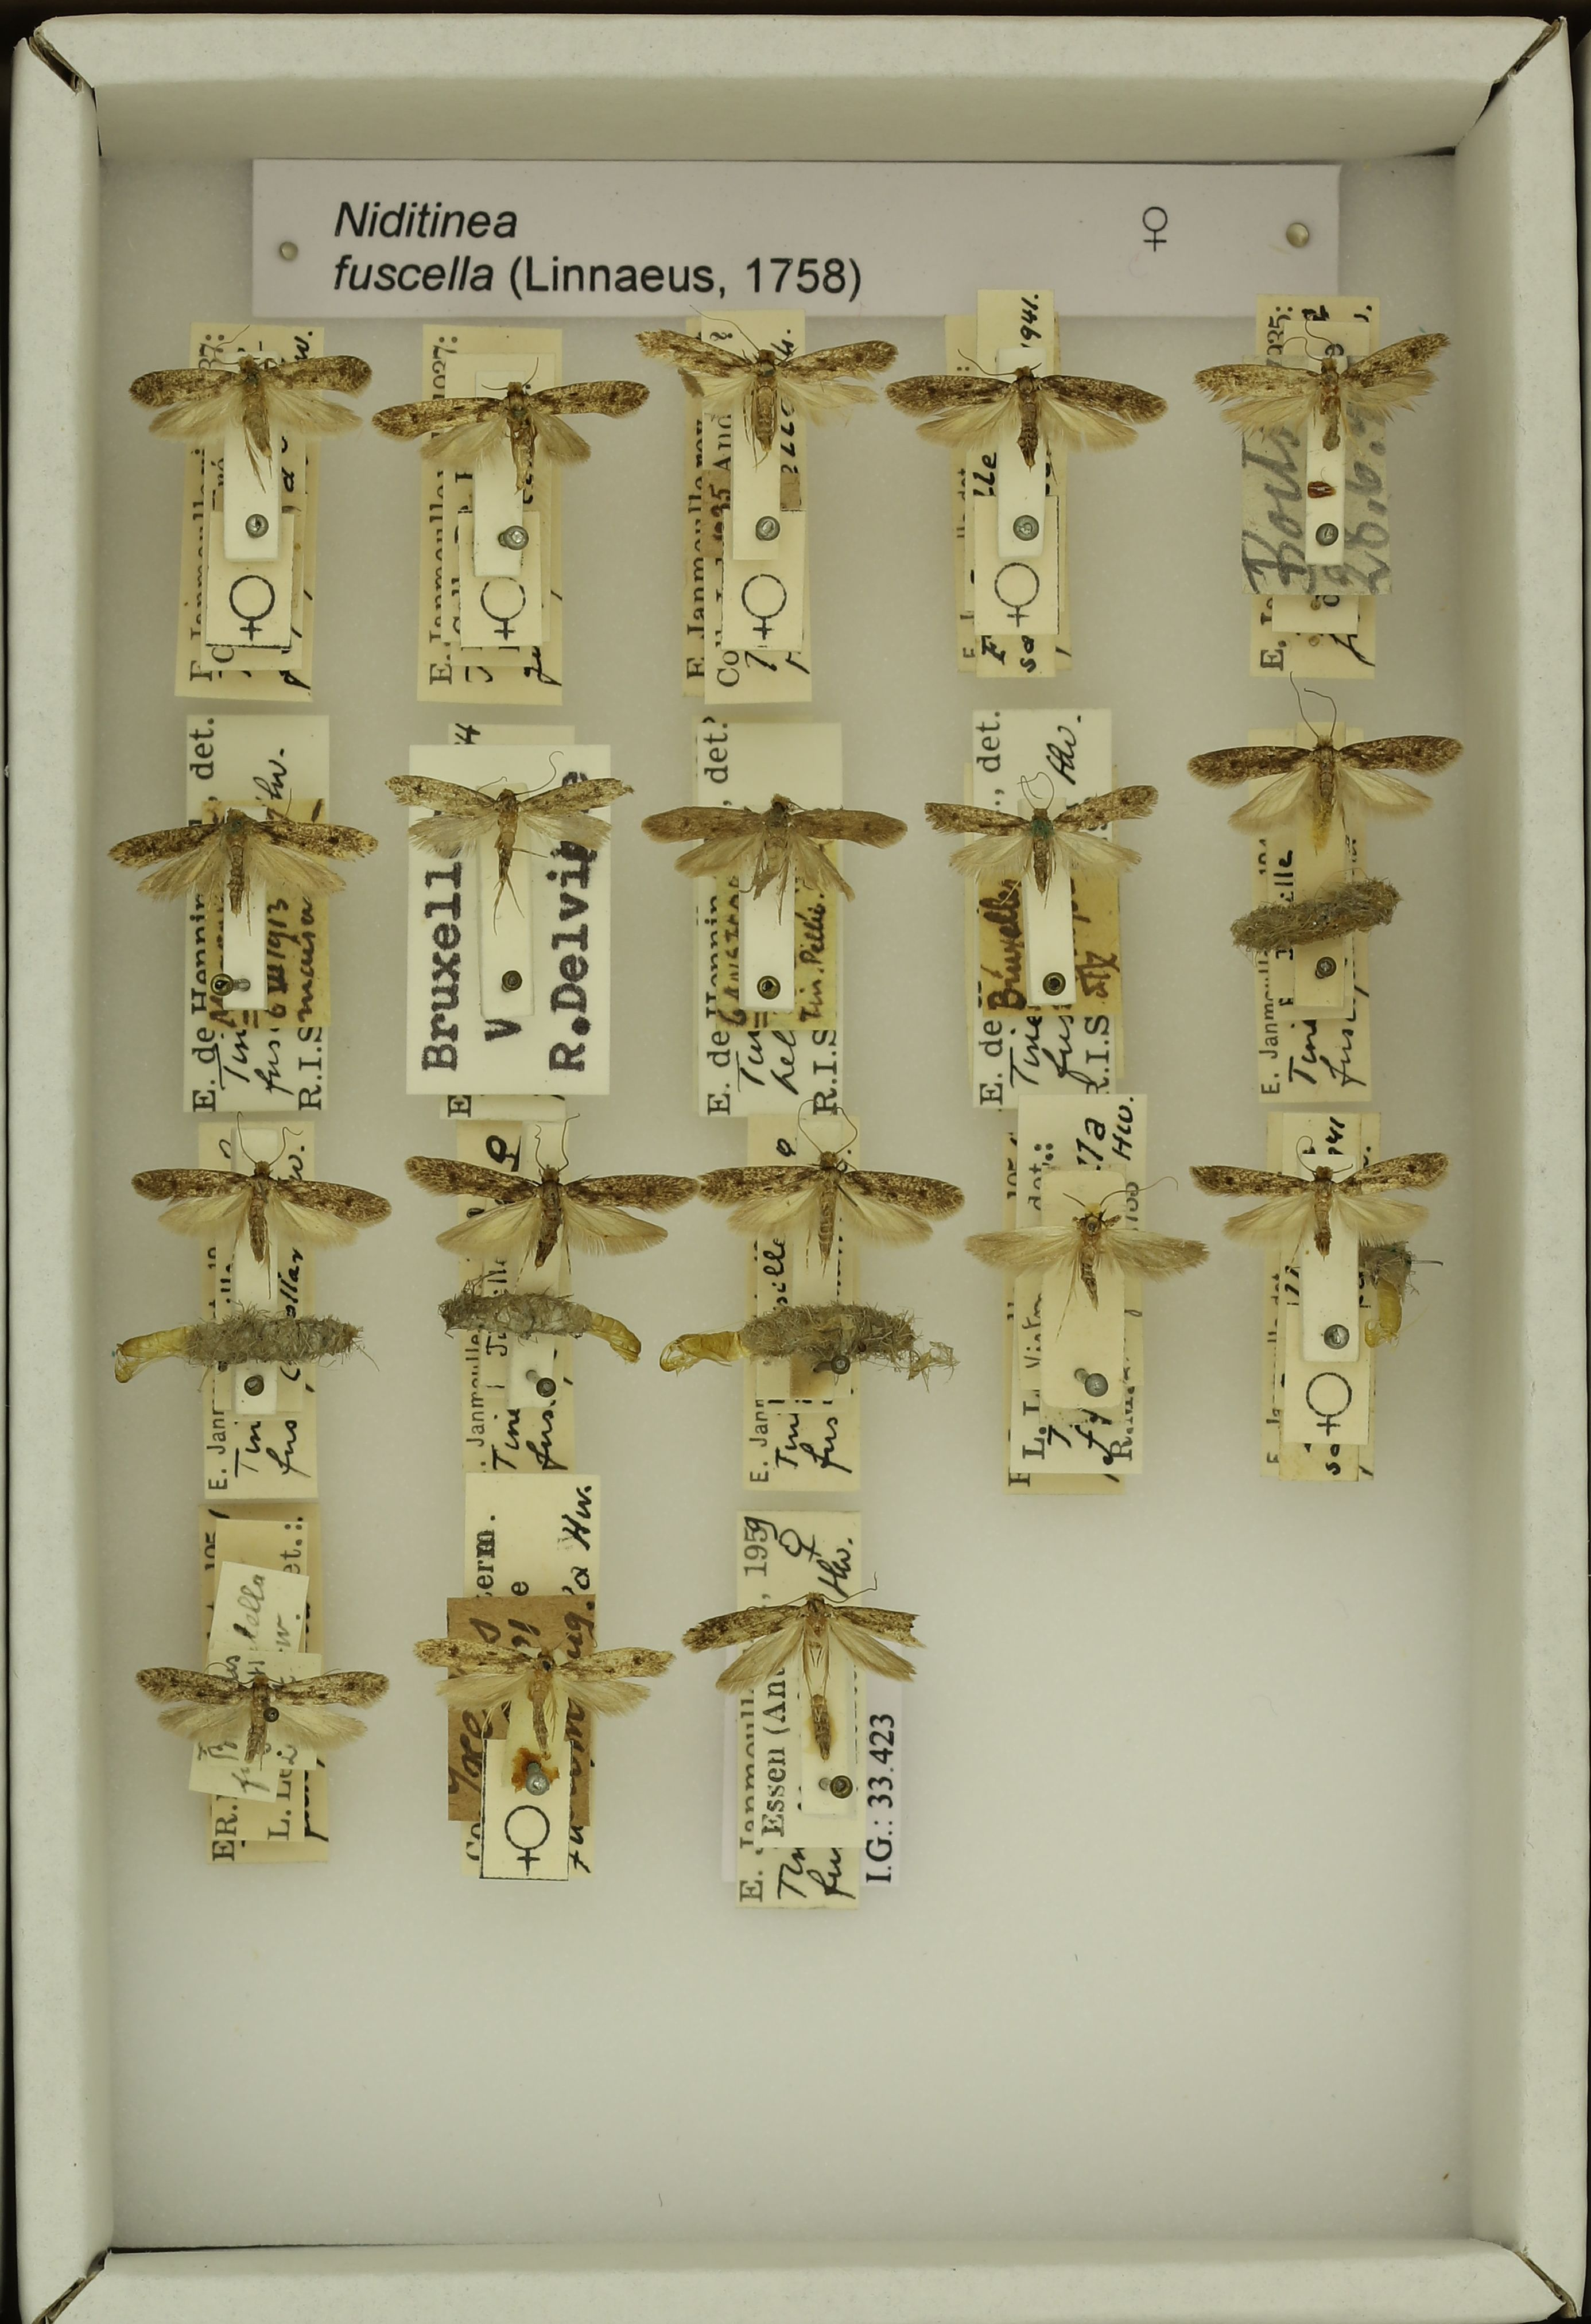insect: (1182, 675, 1472, 856), (678, 1582, 946, 1773), (693, 1105, 965, 1274), (382, 762, 637, 930), (634, 787, 913, 928), (400, 1144, 702, 1274), (367, 364, 654, 490), (629, 327, 899, 459), (1181, 1131, 1458, 1259), (960, 1181, 1212, 1319), (129, 1144, 395, 1274), (925, 765, 1163, 910), (103, 800, 385, 919), (415, 1627, 685, 1752), (886, 359, 1174, 474), (1186, 319, 1456, 441), (128, 340, 373, 474), (124, 1656, 396, 1774), (103, 1298, 370, 1414), (652, 1294, 934, 1395), (429, 1285, 656, 1367), (1222, 871, 1408, 958), (1352, 1239, 1452, 1355)
